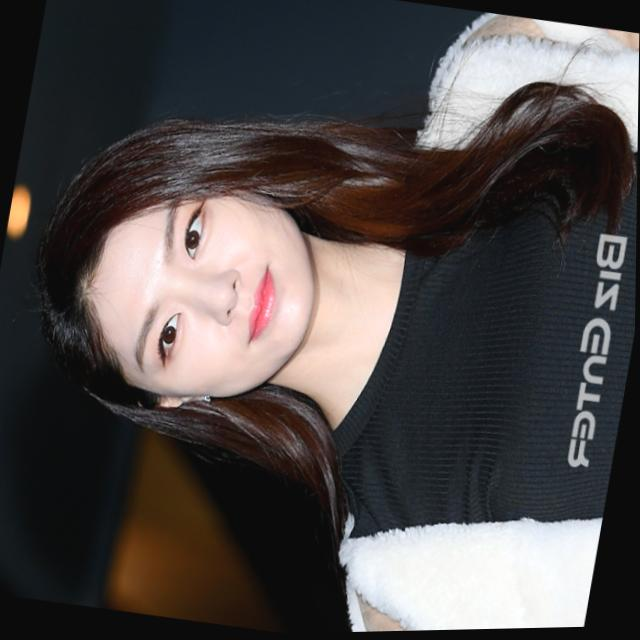face: (24, 109, 358, 475)
